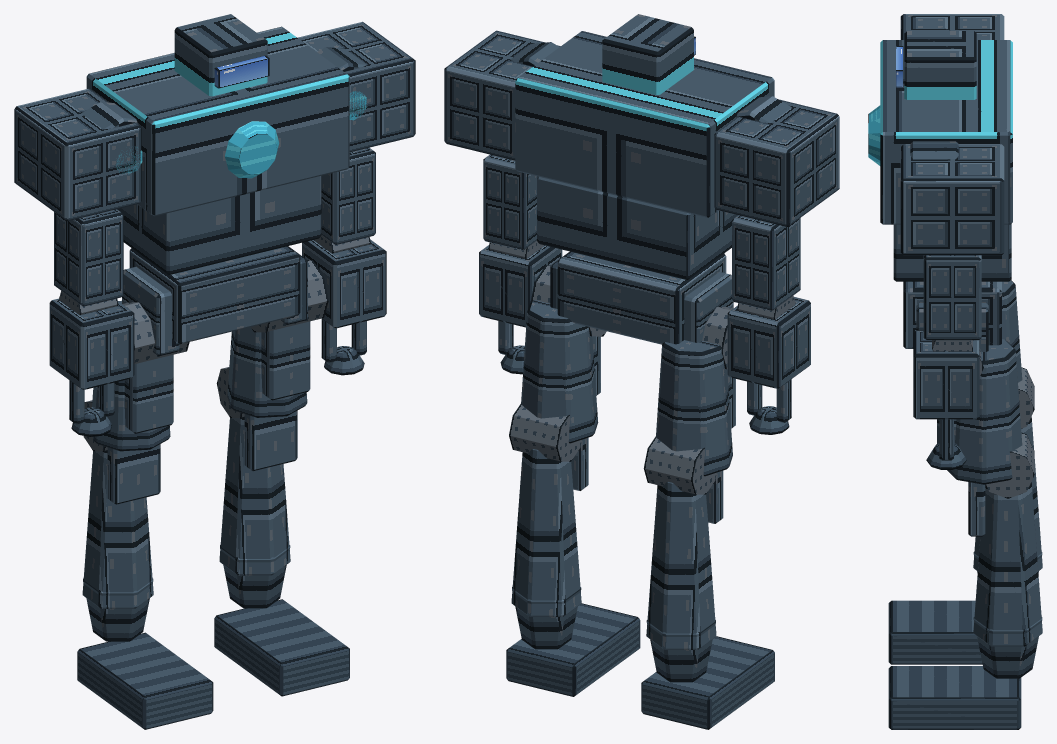
File: mech_shield.glb
3 views of the same model, side by side, from view 1: azimuth 30°, elevation 25°; view 2: azimuth 150°, elevation 25°; view 3: azimuth 270°, elevation 25° (orthographic). The views are drawn at different scales.
Parts seen in each view (by area): view 1: Torso-head, root_Pelvis, R_shoulder, L_shin, R_shin, R_foot, L_foot, R_forearm, L_shoulder, L_forearm, L_thigh, R_upper_arm (+6 smaller); view 2: Torso-head, R_shoulder, R_shin, L_shin, root_Pelvis, R_thigh, L_thigh, L_shoulder, R_forearm, L_foot, R_foot, R_upper_arm (+6 smaller); view 3: Torso-head, L_shin, L_shoulder, L_foot, L_thigh, L_forearm, R_foot, L_upper_arm, root_Pelvis, R_shoulder, L_back_knee, R_thigh (+5 smaller).
Boxes of the visible parts, x1,y1,x2,y2 form: Torso-head: (81,14,366,274); root_Pelvis: (122,246,307,356); R_shoulder: (14,88,141,221); L_shin: (219,410,297,608); R_shin: (82,444,160,641); R_foot: (77,632,213,729); L_foot: (214,599,349,696); R_forearm: (49,298,134,436); L_shoulder: (297,21,415,152); L_forearm: (302,239,386,375); L_thigh: (227,321,310,417); R_upper_arm: (54,209,123,306); Torso-head: (510,14,791,279); R_shoulder: (714,96,839,226); R_shin: (646,470,723,682); L_shin: (511,437,588,649); root_Pelvis: (550,251,733,344); R_thigh: (656,340,735,476); L_thigh: (521,300,600,443); L_shoulder: (444,30,560,160); R_forearm: (727,297,810,434); L_foot: (506,603,640,696); R_foot: (641,636,774,729); R_upper_arm: (732,215,800,311); Torso-head: (880,31,1012,281); L_shin: (968,482,1042,678); L_shoulder: (900,144,1004,255); L_foot: (888,666,1021,729); L_thigh: (937,339,1022,484); L_forearm: (913,330,979,469); R_foot: (888,600,982,664); L_upper_arm: (923,255,981,340); root_Pelvis: (903,281,1001,351); R_shoulder: (900,14,1004,39); L_back_knee: (986,432,1034,498); R_thigh: (1002,280,1022,382).
Size of the model in its own units: 19.68 by 35.04 by 8.69.
1 material, 1 textured.
